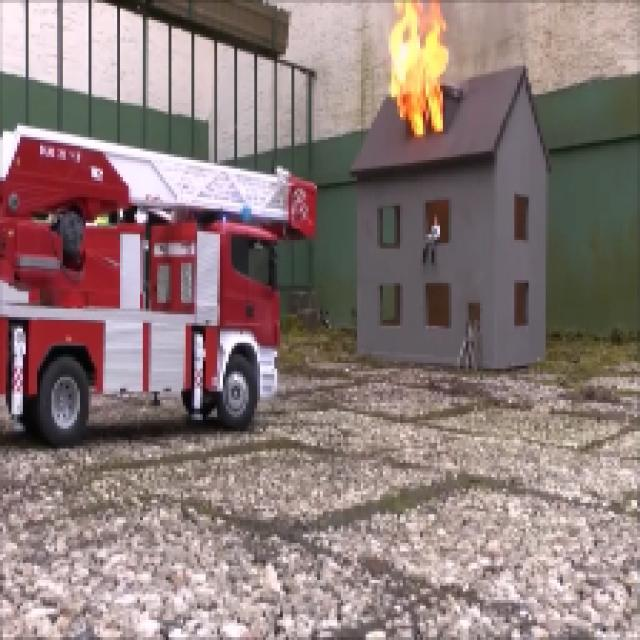fire: (386, 8, 450, 140)
